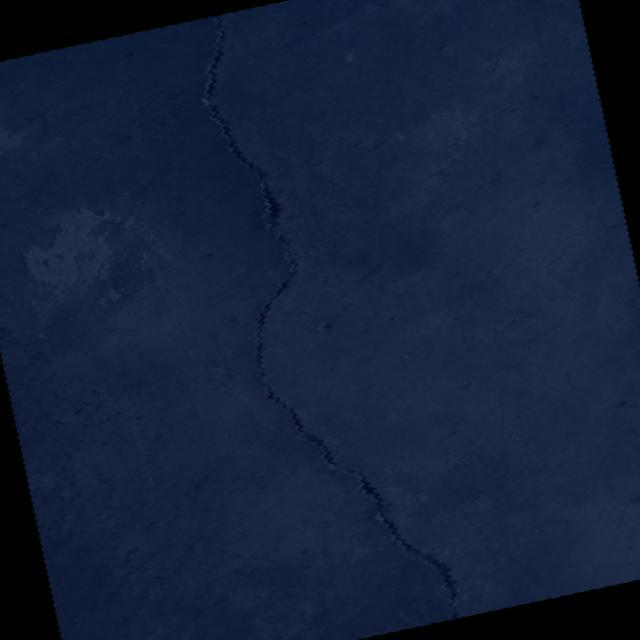crack: (182, 0, 463, 640)
